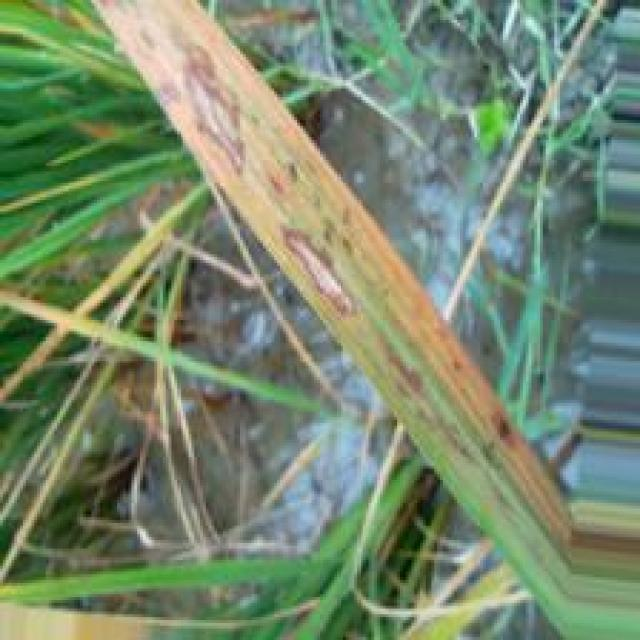Narrow_Brown_Leaf_Spot: (93, 0, 584, 561)
